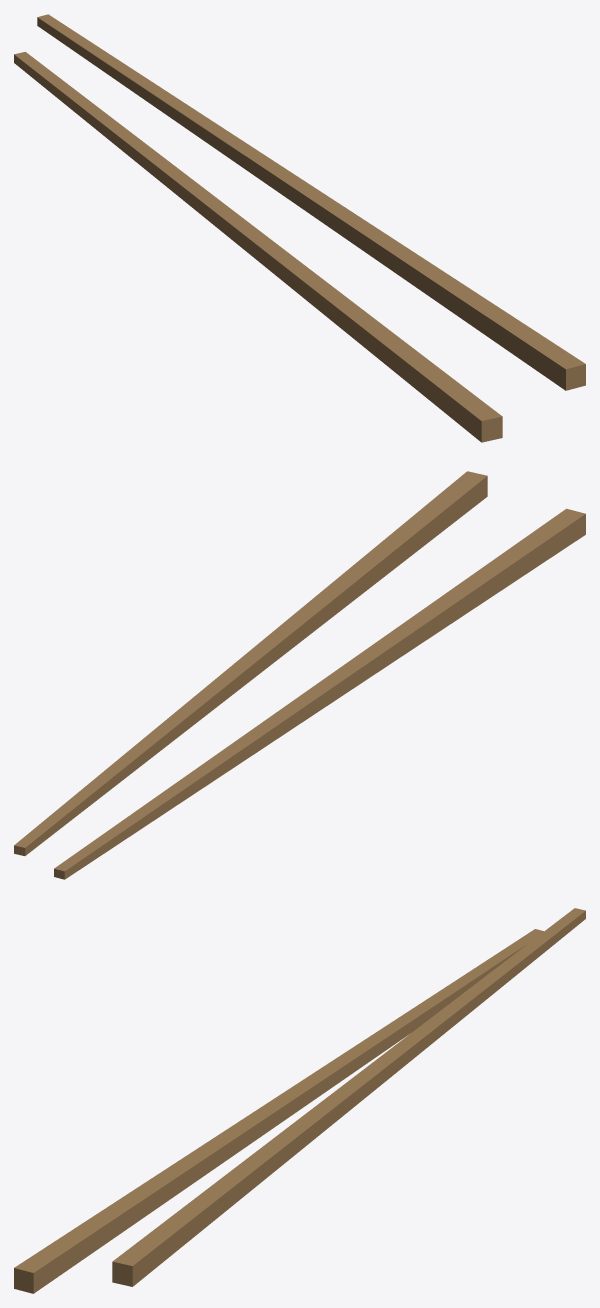
Rendered from ArrowShaftStack2.glb.
3 renders of one model, top to bottom at view 1: azimuth 30°, elevation 25°; view 2: azimuth 150°, elevation 25°; view 3: azimuth 330°, elevation 25°, orthographic. The views are drawn at different scales.
Visible parts, largest first — view 1: ArrowShaftStack2; view 2: ArrowShaftStack2; view 3: ArrowShaftStack2.
Boxes of the visible parts, x1=… form: ArrowShaftStack2: x1=14, y1=14, x2=585, y2=442; ArrowShaftStack2: x1=14, y1=471, x2=585, y2=879; ArrowShaftStack2: x1=14, y1=908, x2=585, y2=1293.
Bounding box in the file's own units: 0.0726 × 0.0272 × 0.5681.
